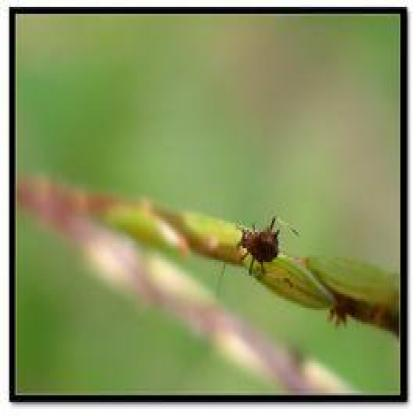aphid: (227, 204, 300, 289)
